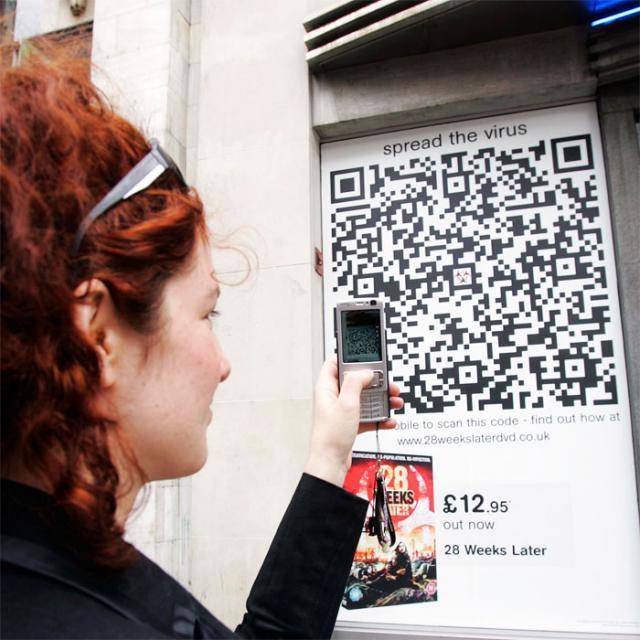qr_code: (329, 133, 619, 416)
